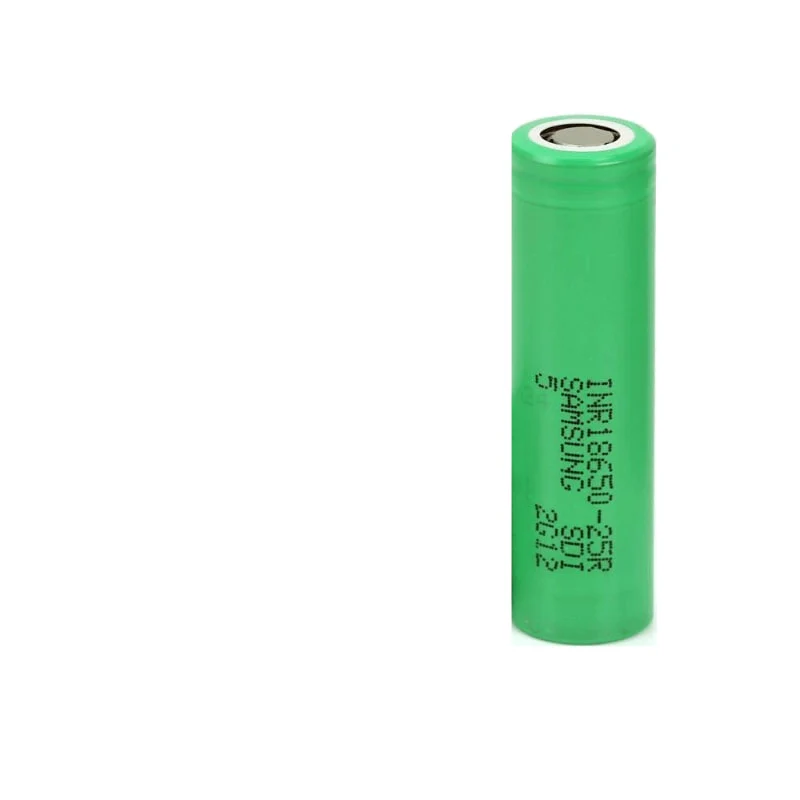toxic_waste: (517, 126, 650, 637)
